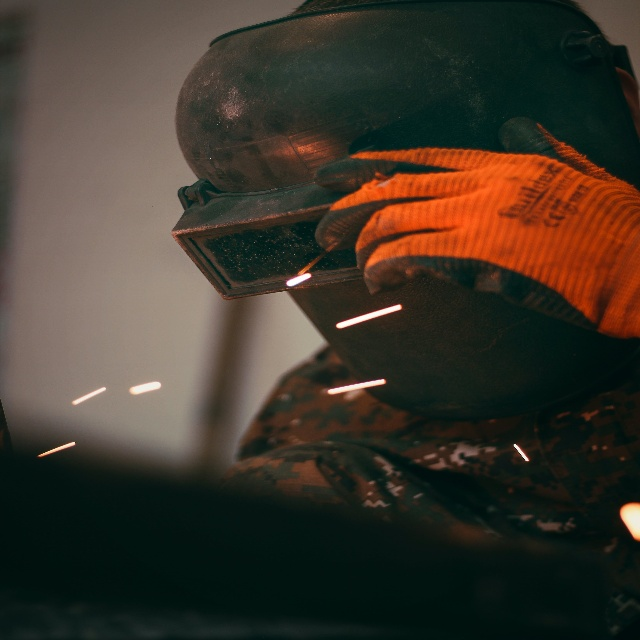Guantes: (314, 113, 640, 340)
